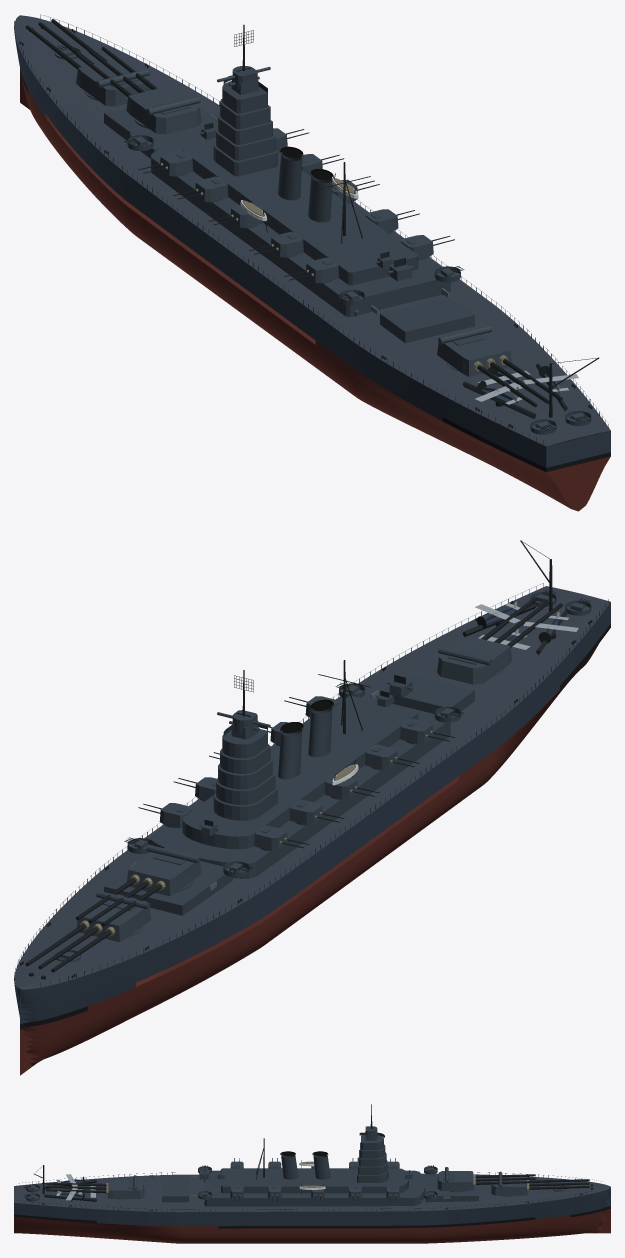
File: north_carolina.glb
The picture shows the model from 3 angles, top to bottom: view 1: azimuth 30°, elevation 25°; view 2: azimuth 150°, elevation 25°; view 3: azimuth 270°, elevation 25°; orthographic projection. The views are drawn at different scales.
Parts seen in each view (by area): view 1: Hull, Turret2, Turret3, Turret1, Mount52, Mount54, Mount58, Mount61; view 2: Hull, Turret3, Turret2, Turret1, Mount54, Mount58, Mount52, Mount61; view 3: Hull, Turret2, Turret3, Turret1.
Boxes of the visible parts, x1,y1,x2,y2 form: Hull: (14,14,610,511); Turret2: (76,46,201,134); Turret3: (437,325,562,407); Turret1: (25,19,150,106); Mount52: (138,151,193,176); Mount54: (173,176,228,202); Mount58: (249,231,303,257); Mount61: (284,257,339,283); Hull: (14,540,610,1075); Turret3: (437,597,562,684); Turret2: (76,844,201,926); Turret1: (25,890,151,972); Mount54: (289,799,344,825); Mount58: (365,744,419,770); Mount52: (254,825,309,851); Mount61: (400,718,454,744); Hull: (14,1104,610,1243); Turret2: (437,1167,535,1192); Turret3: (46,1175,144,1199); Turret1: (491,1171,589,1196).
Size of the model in its own units: 38 by 53 by 222.
